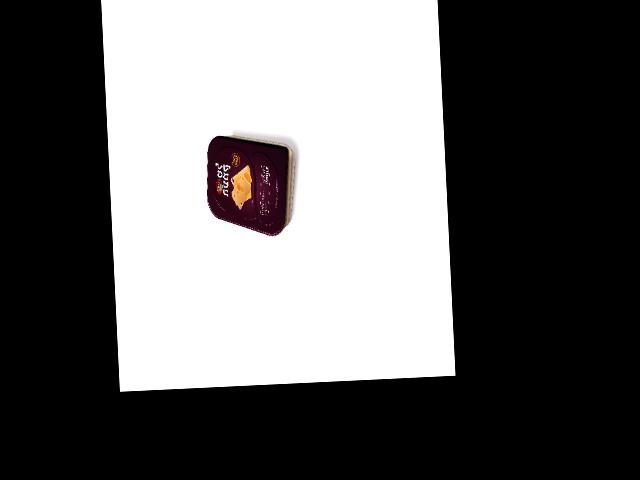cheese: (203, 132, 297, 239)
